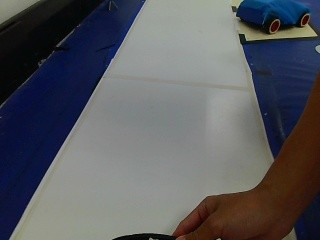car: (234, 1, 316, 33)
